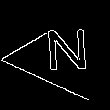N_S: (47, 31, 95, 83)
